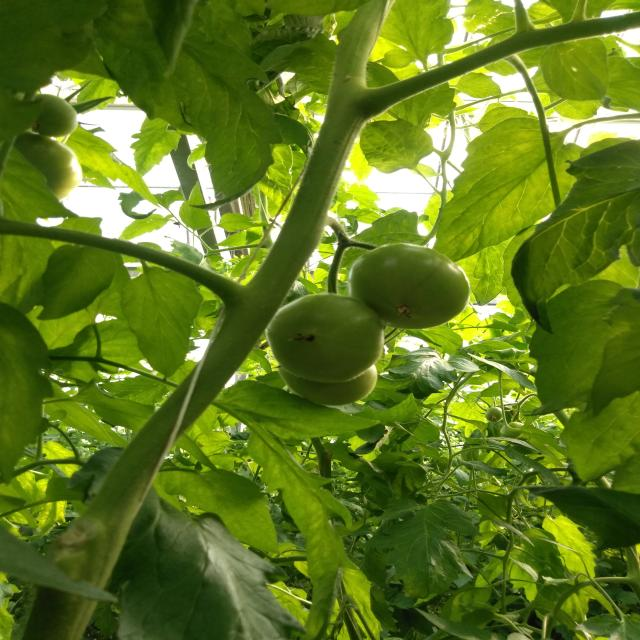yesil: (228, 211, 468, 417)
